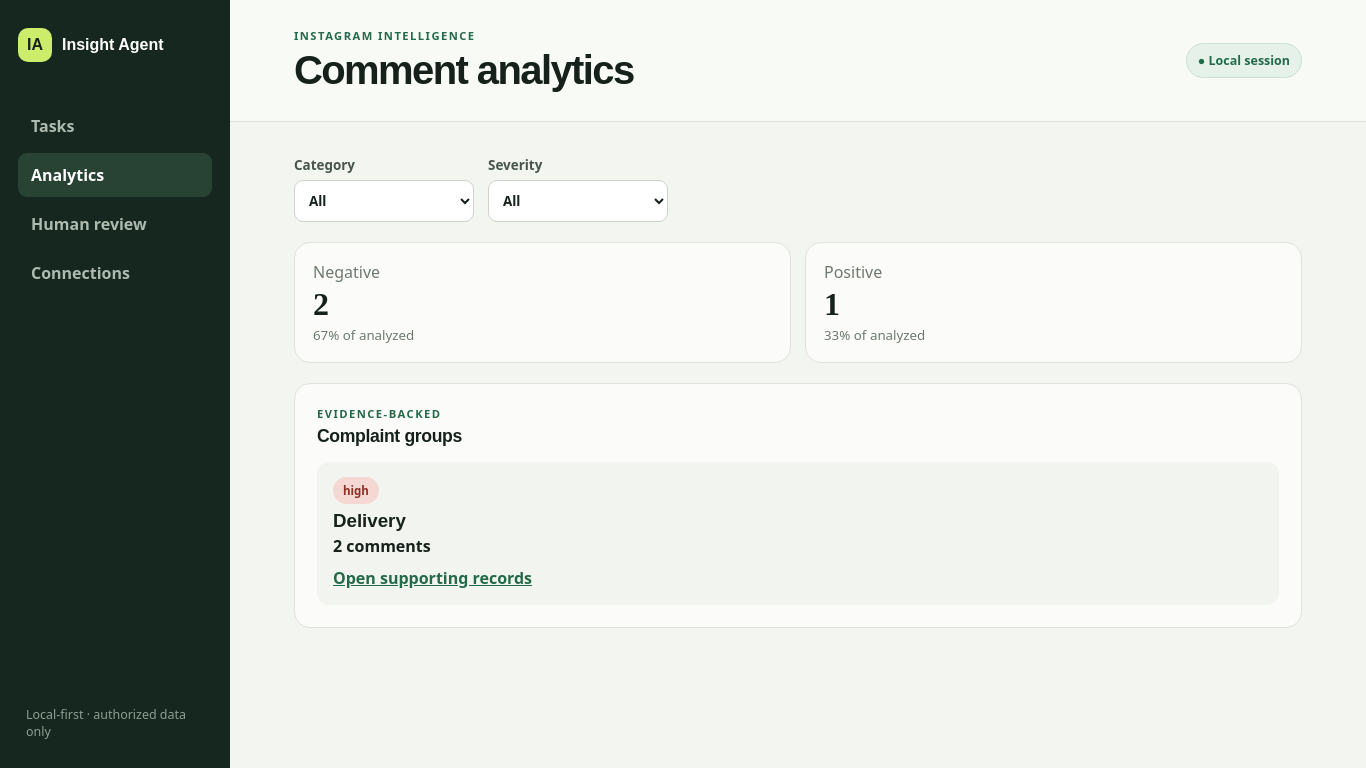
dashboard › shows filtered totals and opens every group's evidence
Expected: the text "2 comments" is shown, [333,535,431,557]
Expected: the text "67% of analyzed" is shown, [313,326,414,344]
Click the button "Open supporting records": x=433, y=573 [333,557,532,589]
(page scrolled)
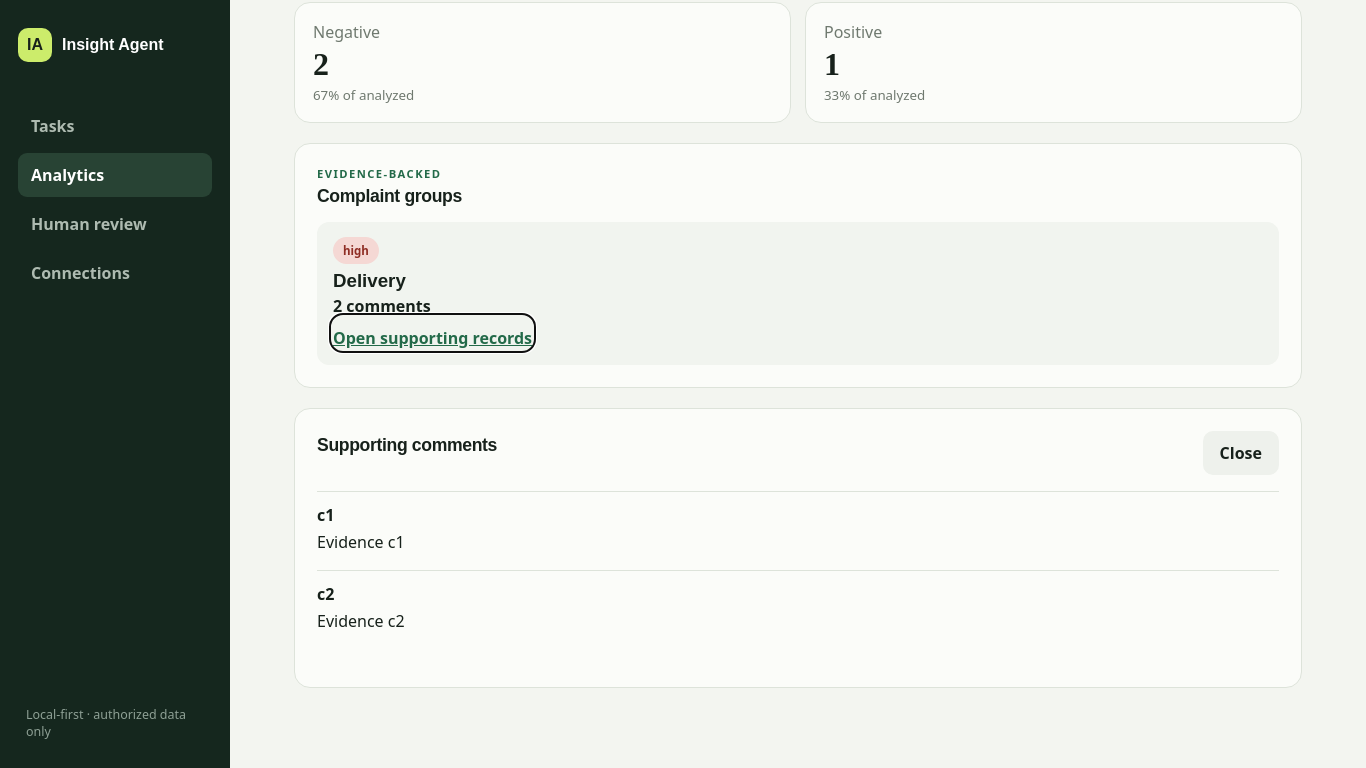
Result: the text "Evidence c1" is shown at [317,531,405,553]
Result: the text "Evidence c2" is shown at [317,610,405,632]
